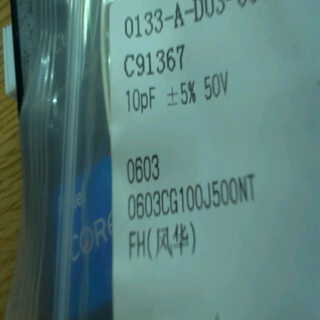10pF: (124, 83, 157, 115)
